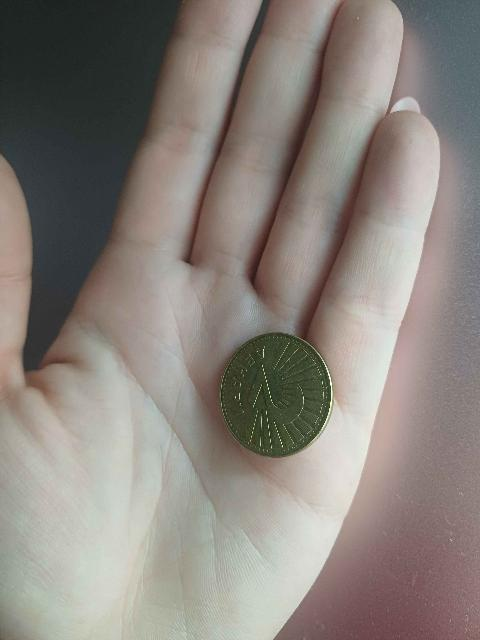2_coin: (220, 333, 333, 456)
